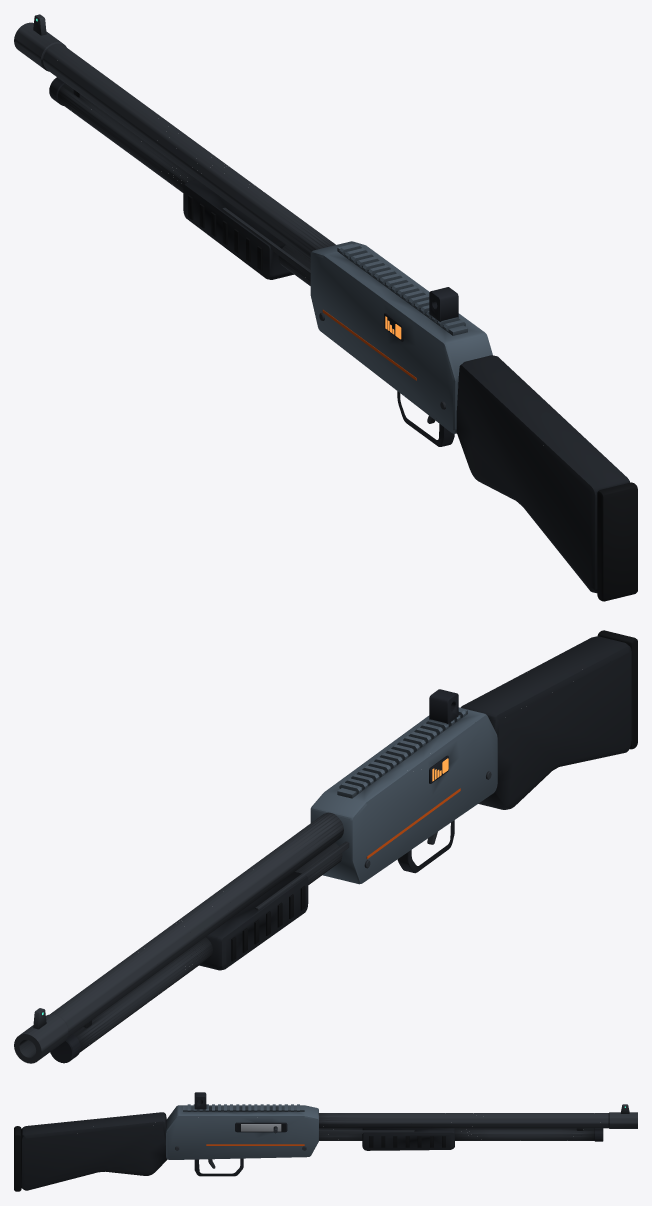
3 renders of one model, top to bottom at view 1: azimuth 30°, elevation 25°; view 2: azimuth 150°, elevation 25°; view 3: azimuth 270°, elevation 25°, orthographic. The views are drawn at different scales.
Parts seen in each view (by area): view 1: body_furn, body_frame, body_steel, body_rubber, pump_furn, body_frame2, pump_rubber; view 2: body_frame, body_furn, body_steel, pump_furn, body_frame2, body_rubber, pump_rubber, pump_steel; view 3: body_furn, body_frame, body_steel, pump_furn, body_frame2, body_rubber, pump_rubber, pump_steel, bolt_bolt, body_accent.
Part boxes in pixels (<box>): body_furn: <box>456,355,630,593</box>; body_frame: <box>310,241,492,433</box>; body_steel: <box>14,14,445,423</box>; body_rubber: <box>597,482,637,601</box>; pump_furn: <box>183,179,293,279</box>; body_frame2: <box>49,77,458,446</box>; pump_rubber: <box>188,195,262,270</box>; body_frame: <box>310,707,497,884</box>; body_furn: <box>460,636,631,809</box>; body_steel: <box>14,771,491,1063</box>; pump_furn: <box>199,872,308,970</box>; body_frame2: <box>50,689,458,1063</box>; body_rubber: <box>597,630,637,749</box>; pump_rubber: <box>231,885,305,961</box>; pump_steel: <box>255,841,349,910</box>; body_furn: <box>21,1112,167,1190</box>; body_frame: <box>165,1104,318,1159</box>; body_steel: <box>175,1104,637,1168</box>; pump_furn: <box>362,1128,454,1150</box>; body_frame2: <box>194,1092,603,1176</box>; body_rubber: <box>14,1126,21,1191</box>; pump_rubber: <box>369,1136,445,1147</box>; pump_steel: <box>319,1130,414,1133</box>; bolt_bolt: <box>241,1124,281,1131</box>; body_accent: <box>206,1144,304,1145</box>.
Size of the model in its own units: 0.065 by 0.178 by 1.08.
